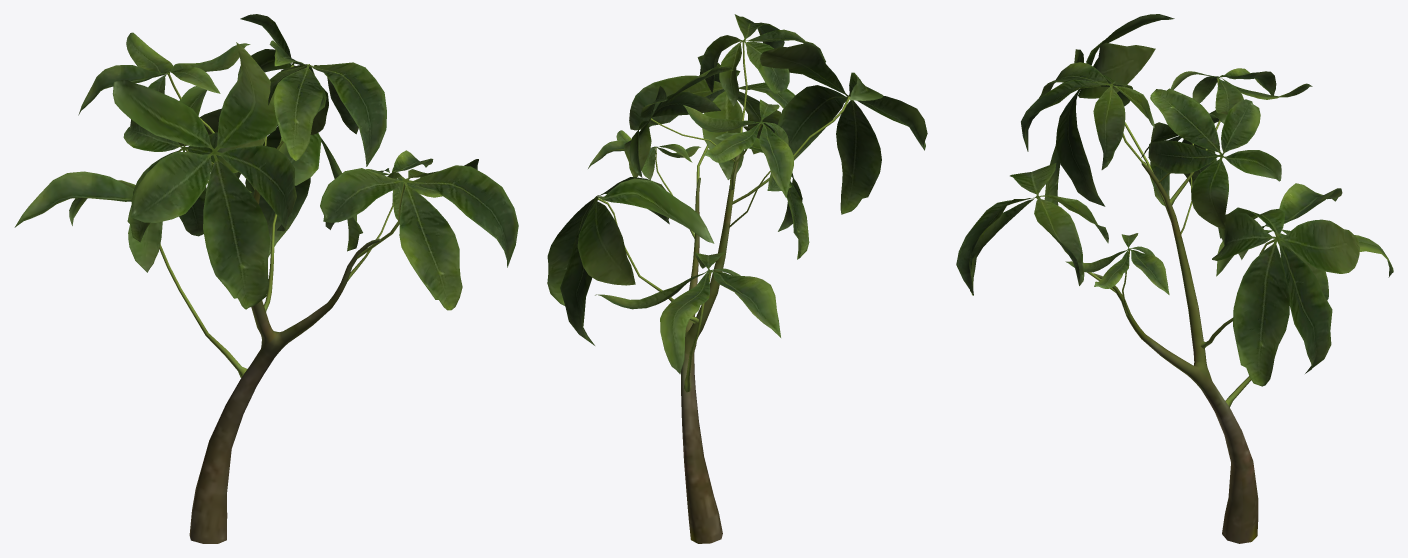
Rendered from pachira_aquatica_01.glb.
3 views of the same model, side by side, from view 1: azimuth 30°, elevation 25°; view 2: azimuth 150°, elevation 25°; view 3: azimuth 270°, elevation 25° (orthographic). The views are drawn at different scales.
Visible parts, largest first — view 1: pachira_aquatica_01_leaves_b, pachira_aquatica_01_bark_b; view 2: pachira_aquatica_01_leaves_b, pachira_aquatica_01_bark_b; view 3: pachira_aquatica_01_leaves_b, pachira_aquatica_01_bark_b.
Boxes of the visible parts, left/top/right/bottom form: pachira_aquatica_01_leaves_b: left=14, top=14, right=518, bottom=377; pachira_aquatica_01_bark_b: left=189, top=189, right=380, bottom=543; pachira_aquatica_01_leaves_b: left=547, top=14, right=927, bottom=392; pachira_aquatica_01_bark_b: left=681, top=154, right=739, bottom=543; pachira_aquatica_01_leaves_b: left=956, top=14, right=1393, bottom=407; pachira_aquatica_01_bark_b: left=1093, top=161, right=1258, bottom=543.
Size of the model in its own units: 0.5031 by 0.735 by 0.6074.
Materials: 2 (2 with a texture image).
